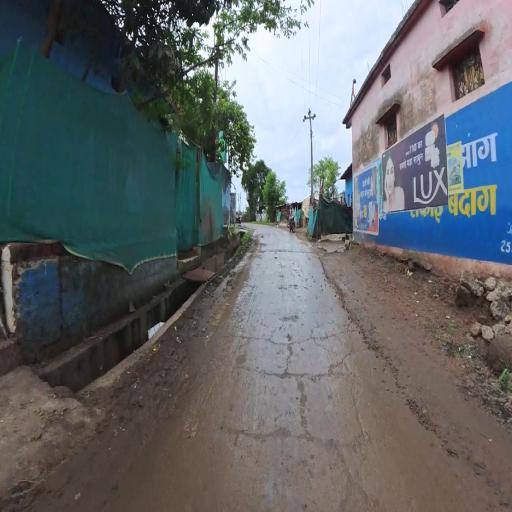longitudinal_crack: (235, 304, 364, 474)
